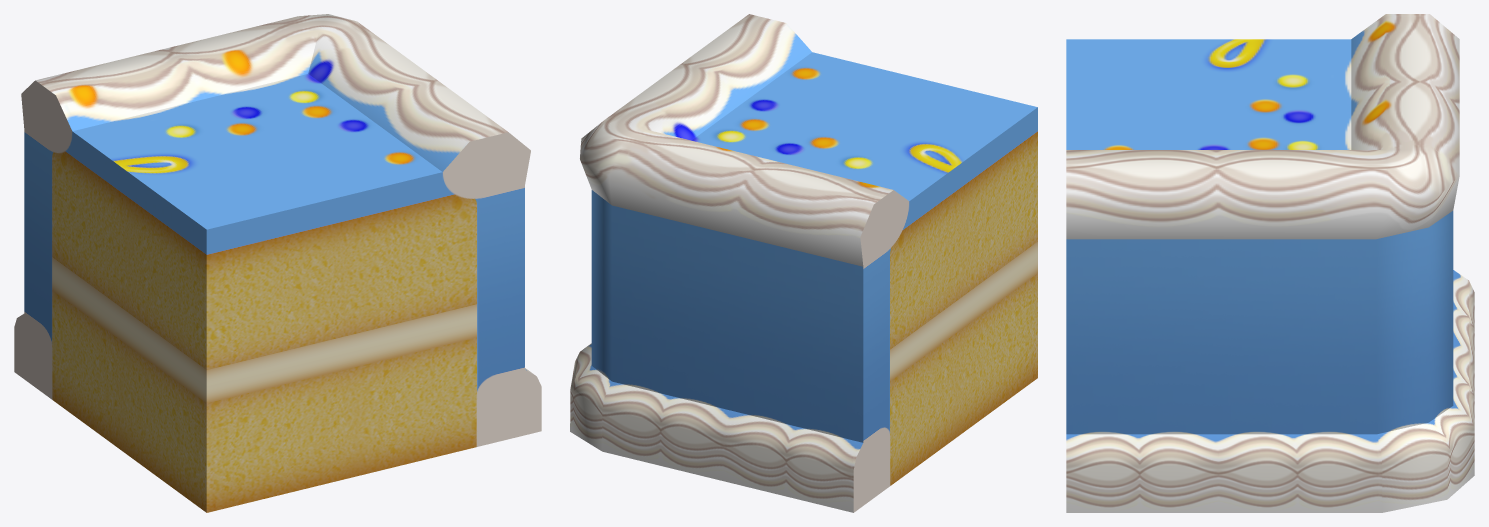
Rendered from SheetCake_01_Slice_09.fbx.
3 renders of one model, left to right at view 1: azimuth 30°, elevation 25°; view 2: azimuth 150°, elevation 25°; view 3: azimuth 270°, elevation 25°, orthographic. The views are drawn at different scales.
Visible parts, largest first — view 1: SheetCake_01_Slice_09; view 2: SheetCake_01_Slice_09; view 3: SheetCake_01_Slice_09.
Part boxes in pixels (left/top/right/bottom): SheetCake_01_Slice_09: left=14, top=14, right=541, bottom=512; SheetCake_01_Slice_09: left=570, top=14, right=1037, bottom=512; SheetCake_01_Slice_09: left=1066, top=14, right=1474, bottom=512.
Bounding box in the file's own units: 45.62 × 39.96 × 45.43.
